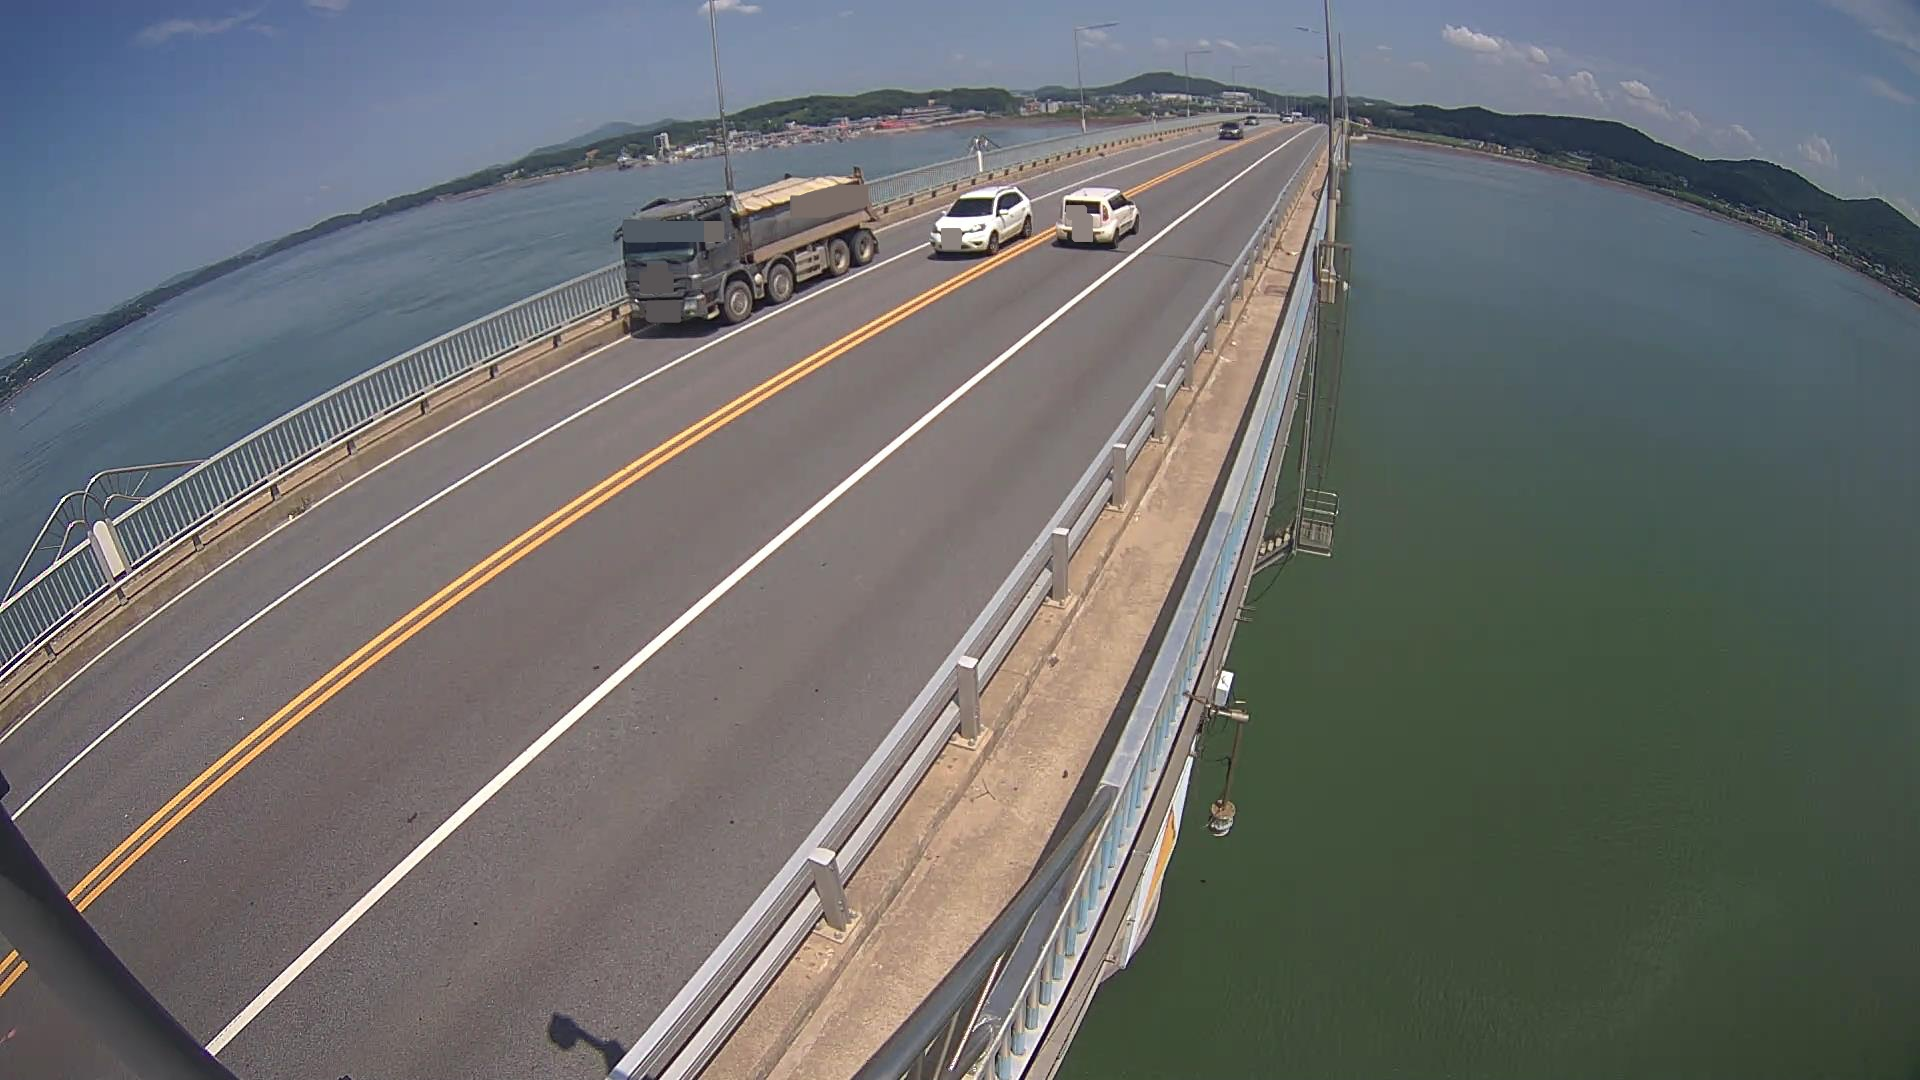정상차량: (614, 166, 880, 323)
